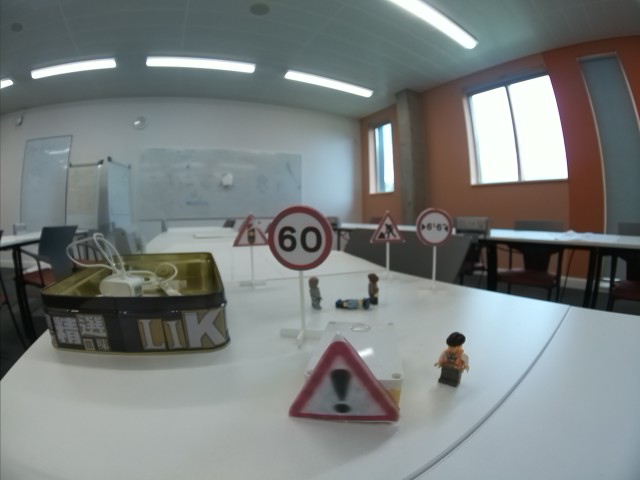60mph: (267, 206, 331, 270)
6ft6: (414, 207, 453, 244)
Lego Man: (436, 330, 471, 388), (304, 275, 324, 308), (336, 298, 371, 311), (365, 274, 380, 303)
Roadworks: (371, 212, 406, 245)
Traffic lights: (232, 215, 269, 248)
Warning: (287, 343, 403, 420)
